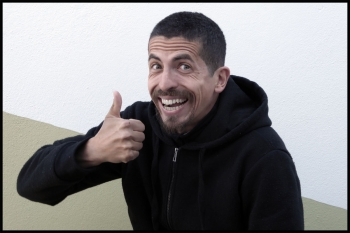hand: (101, 90, 145, 164)
